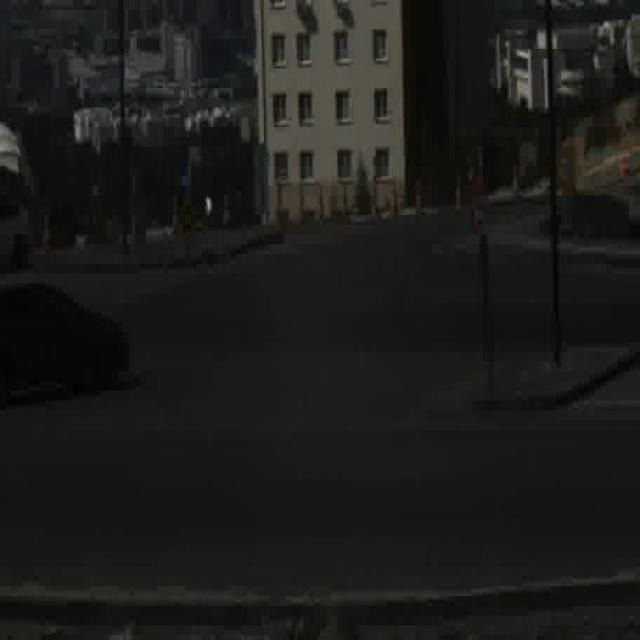Car: (0, 289, 135, 405), (0, 189, 32, 267)
